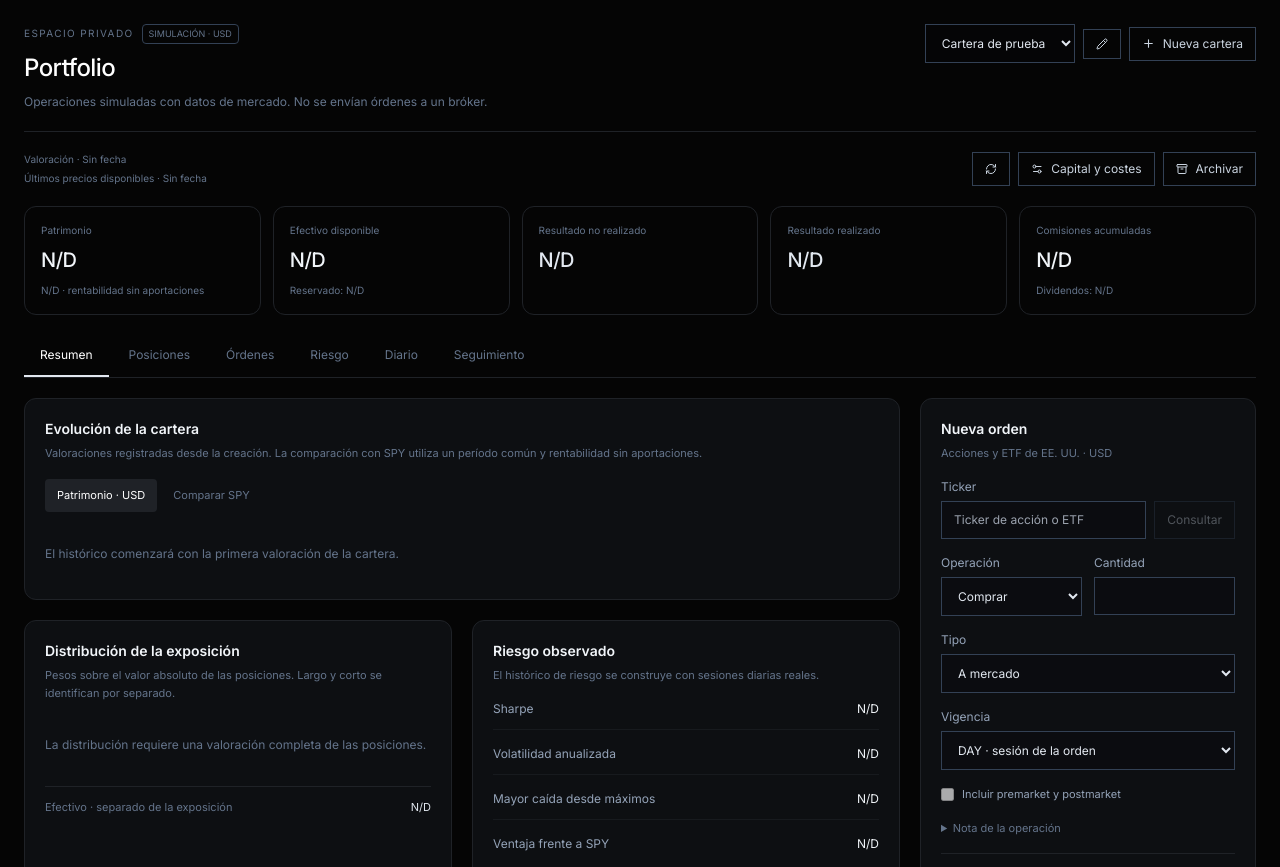
Test: archives explicitly, explains pending cancellations and keeps a restore action
The width and height of the screenshot is (1280, 867).
Expected: the heading "Nueva orden" is shown, [941, 420, 1027, 437]
What coordinates should you click on to do the following:
click the button "Archivar"
I would click on:
 (1209, 169)
Its box is [1163, 152, 1256, 186].
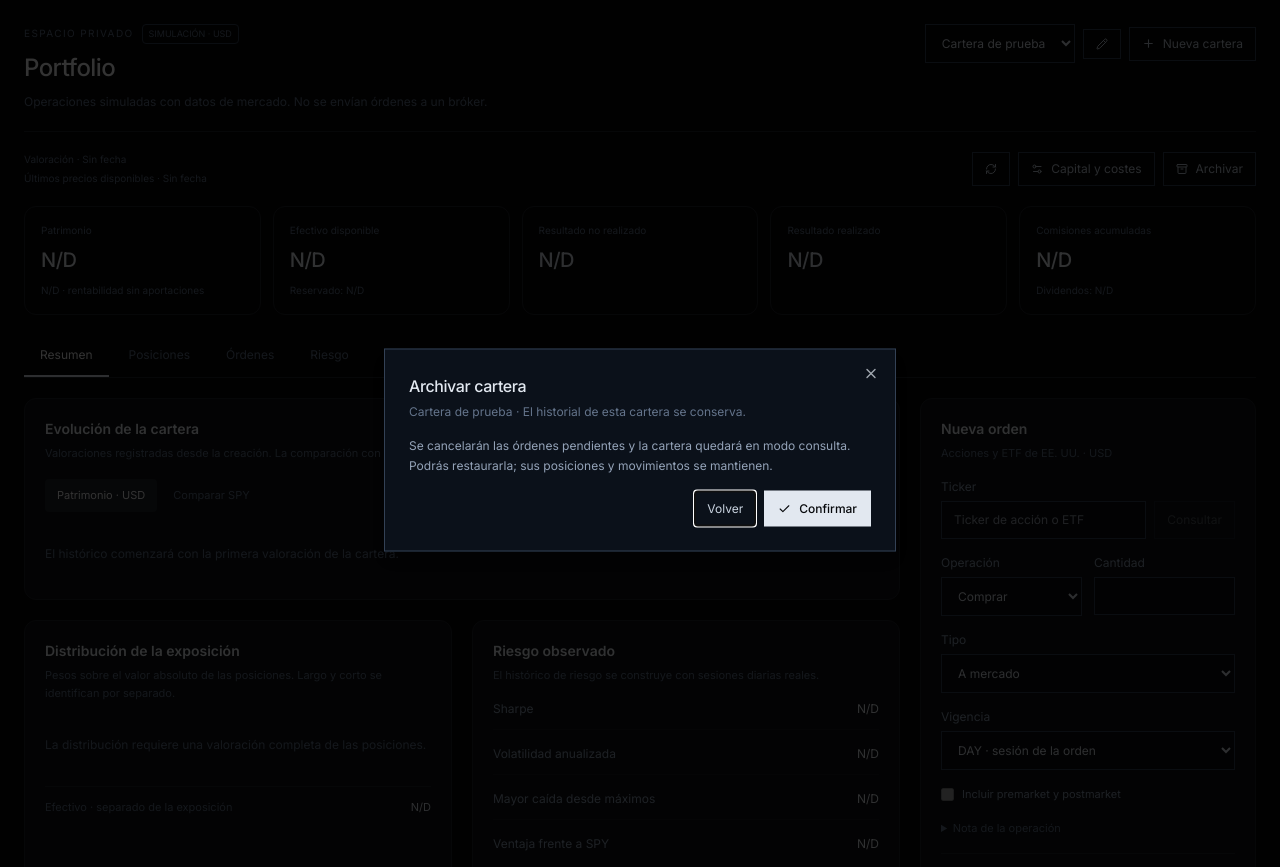
Expected: the text "Se cancelarán las órdenes pendientes" is shown, [409, 438, 850, 472]
What coordinates should you click on to do the following:
click the button "Confirmar"
I would click on:
 (818, 508)
Its box is [764, 490, 871, 526].
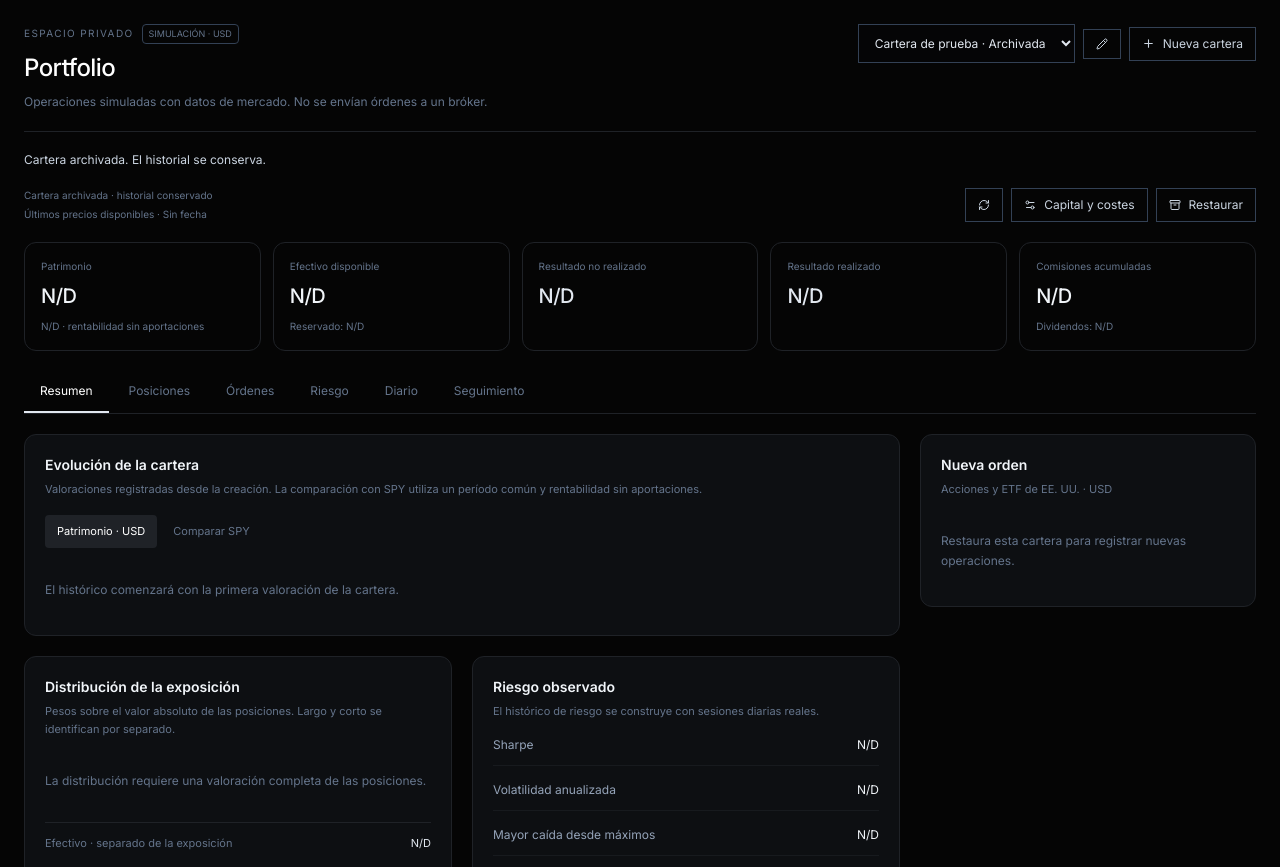
Expected: the button "Restaurar" is shown, [1156, 188, 1256, 222]
Expected: the text "Restaura esta cartera para registrar nuevas operaciones." is shown, [941, 533, 1186, 568]
